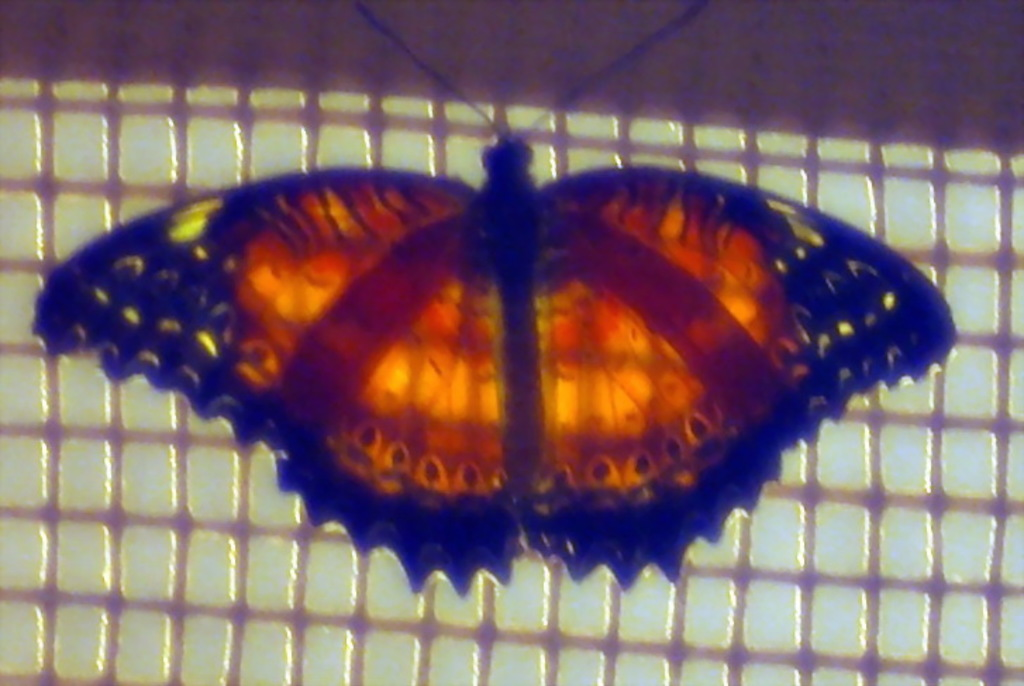Butterfly: (35, 159, 979, 588)
